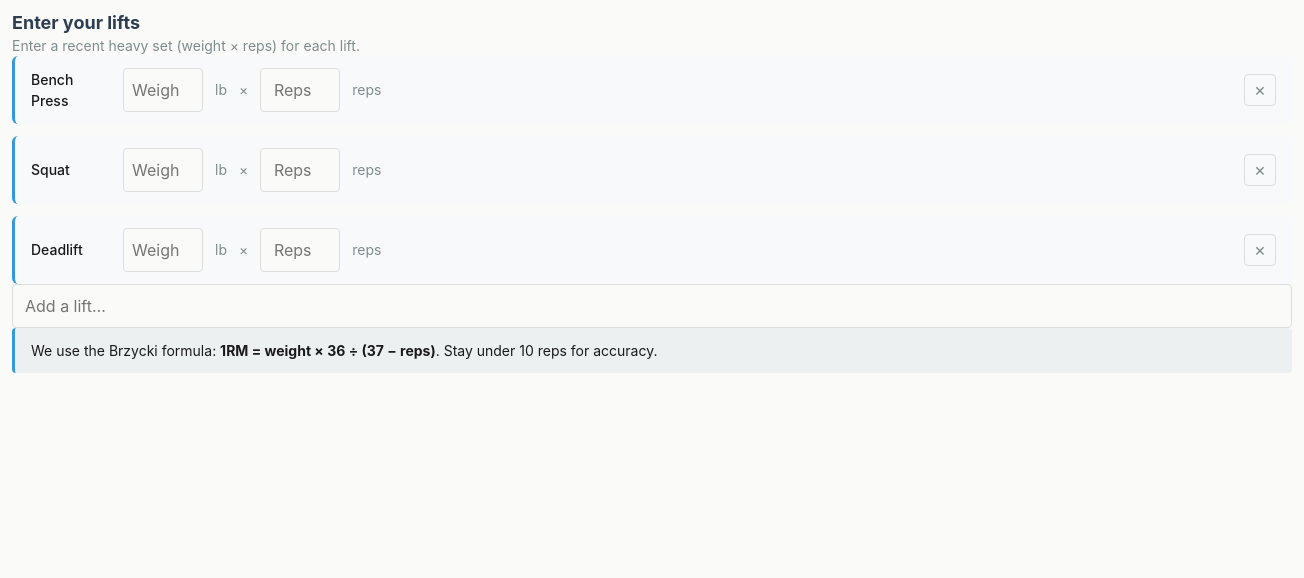
Test case: StepLifts — add a lift › adds a free-text custom lift that is not in the catalog
'Zercher Carry' is not in CATALOG — the picker should offer it as custom
Step 1. Type "Zercher Carry" into the dropdown labelled "Add a lift" → coordinates (652, 306), box 12,284 -> 1292,328
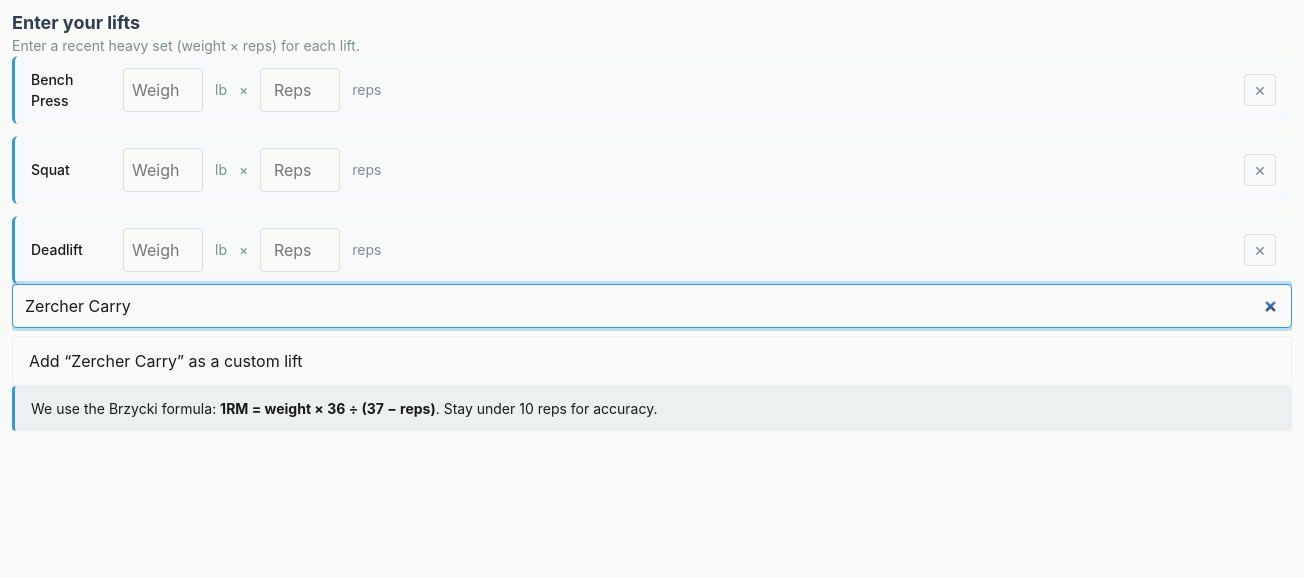
Step 2. Click the option "Add “Zercher Carry” as a custom lift" → coordinates (50, 360), box 13,336 -> 1291,384
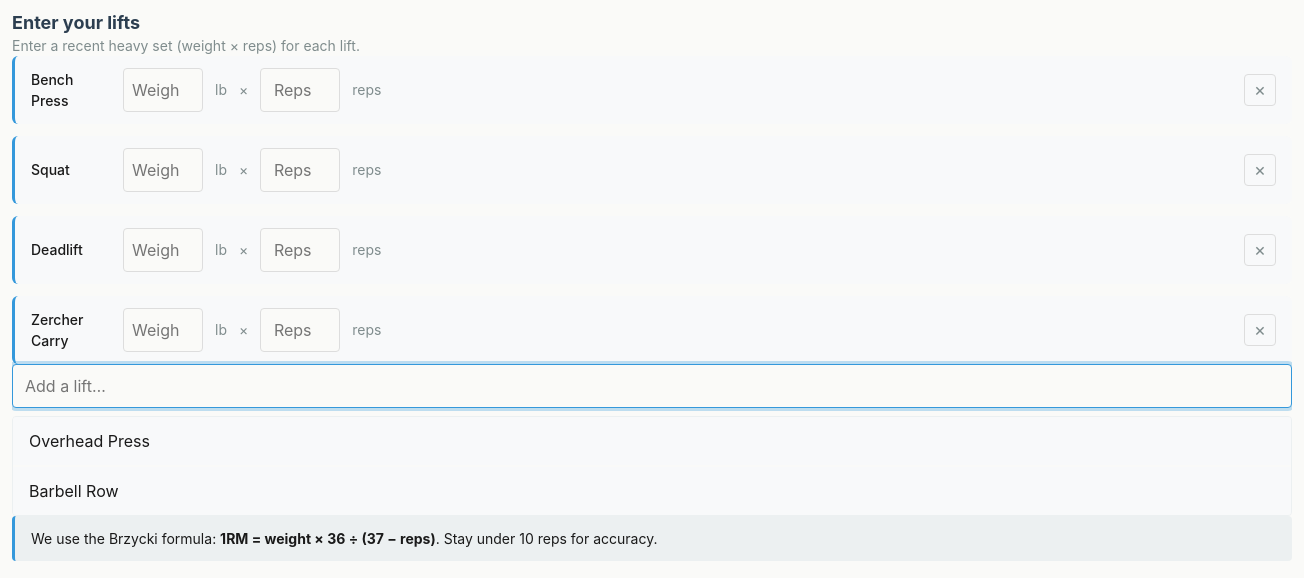
Result: the text "Zercher Carry" is shown at 31,310 -> 84,348
Result: the number field named "Zercher Carry weight" is shown at 123,308 -> 203,352
